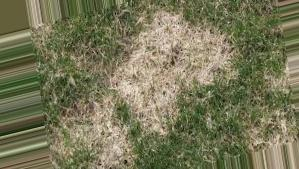patch: (136, 21, 179, 126), (57, 106, 129, 154), (187, 31, 229, 77)
